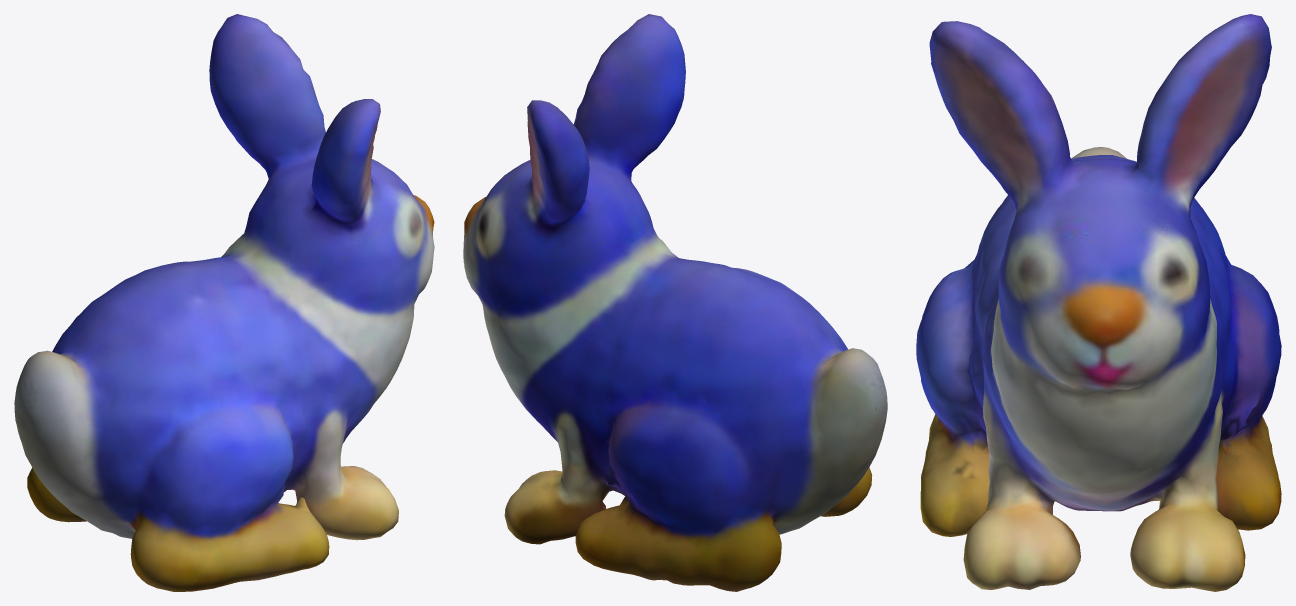
The model's file is Create_rabbit_with_Oval_face_with_bright_blue_eyes_a_wide_s_0614160410_preview.obj.
3 renders of one model, left to right at view 1: azimuth 30°, elevation 25°; view 2: azimuth 150°, elevation 25°; view 3: azimuth 270°, elevation 25°, orthographic. The views are drawn at different scales.
Parts seen in each view (by area): view 1: Mesh1; view 2: Mesh1; view 3: Mesh1.
Part boxes in pixels (x1,y1,x2,y2): Mesh1: [14, 14, 434, 591]; Mesh1: [463, 14, 887, 591]; Mesh1: [916, 14, 1281, 591].
Size of the model in its own units: 1.13 by 1.2 by 0.7079.
Materials: 1 (1 with a texture image).
